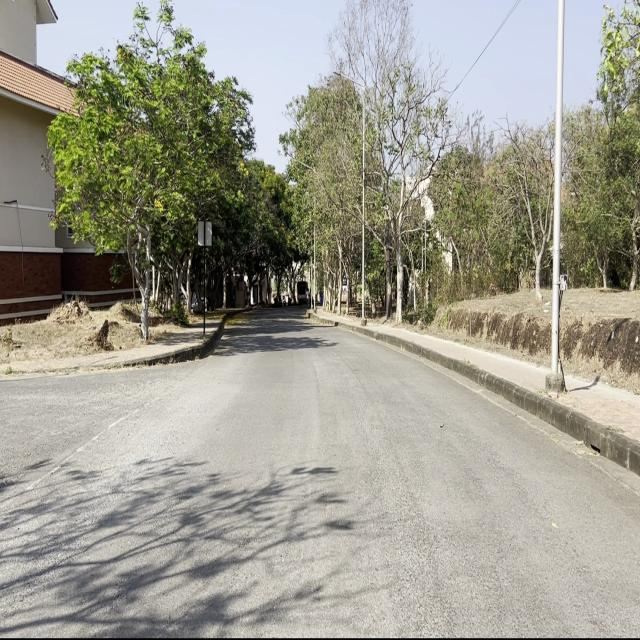Road: (3, 316, 638, 632)
